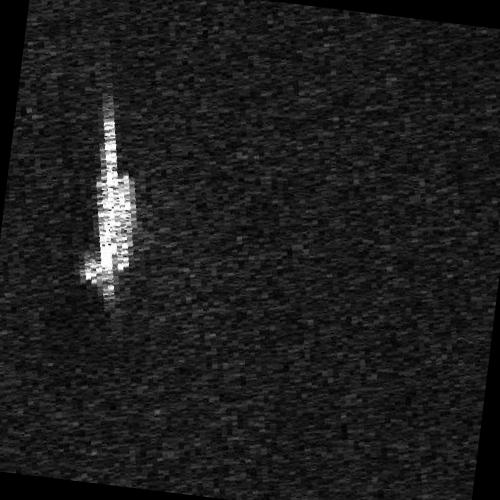ship: (80, 104, 137, 305)
